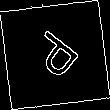P_SE: (24, 25, 86, 85)
